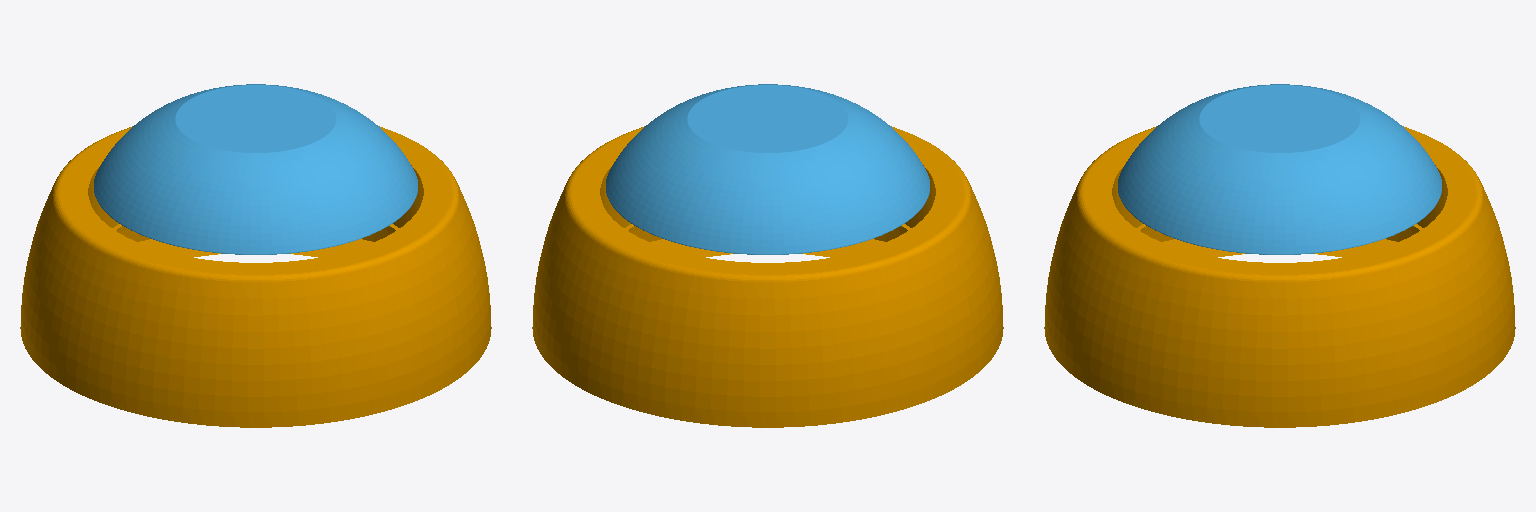
robot.urdf — button:
<?xml version="1.0" encoding="utf-8"?>

<!-- This URDF was automatically created by SolidWorks to URDF Exporter! Originally created by Stephen Brawner (brawner@gmail.com) 
     Commit Version: 1.6.0-1-g15f4949  Build Version: 1.6.7594.29634
     For more information, please see http://wiki.ros.org/sw_urdf_exporter -->
<robot name="button"> 
  <link name="button_base"> 
    <inertial> 
      <origin xyz="0 0 0" rpy="0 0 0"/>  
      <mass value="0.01"/>  
      <inertia ixx="0.00036805" ixy="-7.2868E-08" ixz="-5.0168E-08" iyy="0.0003341" iyz="-2.6462E-06" izz="0.00022294"/> 
    </inertial>  
    <visual> 
      <origin xyz="0 0 0" rpy="0 0 0"/>  
      <geometry> 
        <mesh filename="Visual/button_base.obj"/> 
      </geometry>  
    </visual>  
    <collision> 
      <origin xyz="0 0 0" rpy="0 0 0"/>  
      <geometry> 
        <mesh filename="Collision/button_base.stl"/>
      </geometry> 
    </collision> 
  </link>  
  <link name="button_cover"> 
    <inertial> 
      <origin xyz="0 0 0" rpy="0 0 0"/>  
      <mass value="0.01"/>  
      <inertia ixx="1.7567E-06" ixy="-5.7832E-08" ixz="2.6803E-08" iyy="2.3034E-06" iyz="2.2145E-07" izz="1.3354E-06"/> 
    </inertial>  
    <visual> 
      <origin xyz="0 0 0" rpy="0 0 0"/>  
      <geometry> 
        <mesh filename="Visual/button_cover.obj"/> 
      </geometry>  
    </visual>  
    <collision> 
      <origin xyz="0 0 0" rpy="0 0 0"/>  
      <geometry> 
        <mesh filename="Collision/button_cover.stl"/>
      </geometry> 
    </collision> 
  </link>  
  <joint name="press" type="prismatic"> 
    <origin xyz="0 0 0" rpy="0 0 0"/>  
    <parent link="button_base"/>  
    <child link="button_cover"/>  
    <axis xyz="0 0 1"/>  
    <limit lower="-0.005" upper="0.0" effort="1" velocity="1"/> 
  </joint>
</robot>

--- Render facts (derived) ---
3 views of the same robot in one strip: view 1: azimuth 30°, elevation 25°; view 2: azimuth 150°, elevation 25°; view 3: azimuth 270°, elevation 25° (orthographic).
Model button with 2 links and 1 joints (1 prismatic), rooted at button_base, posed all joints at 0.
Visible links, largest first — view 1: button_base, button_cover; view 2: button_base, button_cover; view 3: button_base, button_cover.
Link boxes in pixels (left/top/right/bottom): button_base: left=20, top=126, right=491, bottom=427; button_cover: left=94, top=84, right=417, bottom=254; button_base: left=532, top=126, right=1003, bottom=427; button_cover: left=606, top=84, right=929, bottom=254; button_base: left=1044, top=126, right=1515, bottom=427; button_cover: left=1118, top=84, right=1441, bottom=254.
Bounding box of the posed robot: 0.0579 × 0.0579 × 0.0284 m (x, y, z).
Meshes: 2 distinct files referenced, 2 mesh visuals loaded (2 OBJ).
